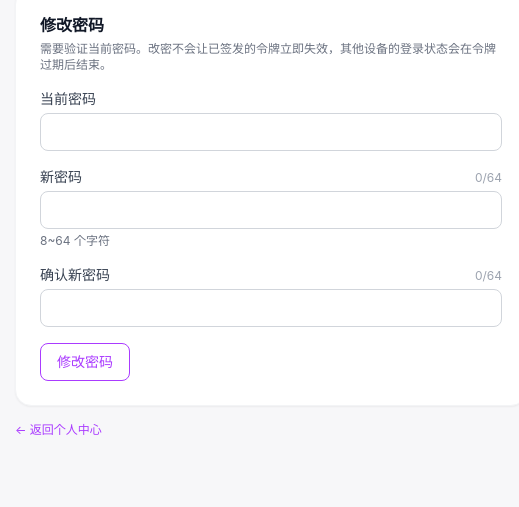
Test: ChangePasswordPage › 修改成功后清空输入框并给出提示（明文不留存在 DOM 里）
Type "old-secret" into the password field labelled "当前密码". click: (271, 132)
box: [40,113,502,151]
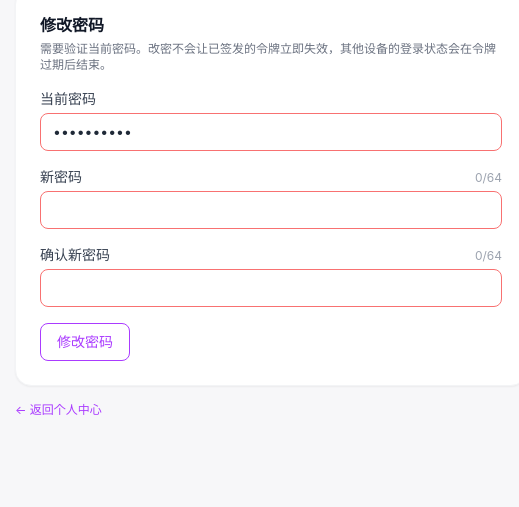
Type "new-secret" into the password field labelled "新密码". click: (271, 210)
box: [40,191,502,229]
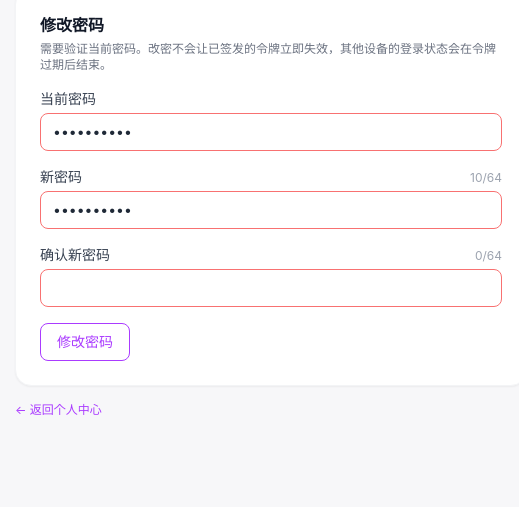
Type "new-secret" into the password field labelled "确认新密码". click: (271, 288)
box: [40,269,502,307]
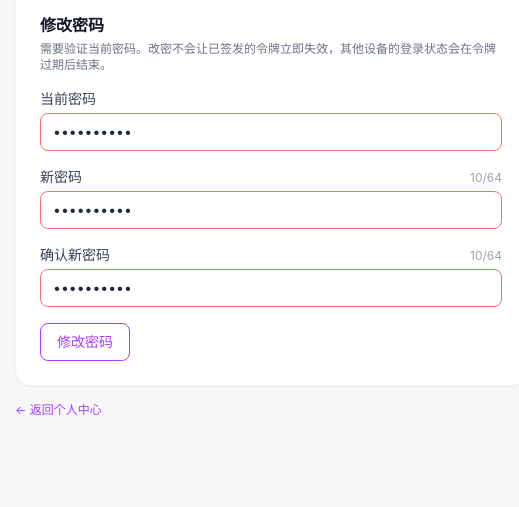
Submit the form "修改密码", box [40,89,502,361]
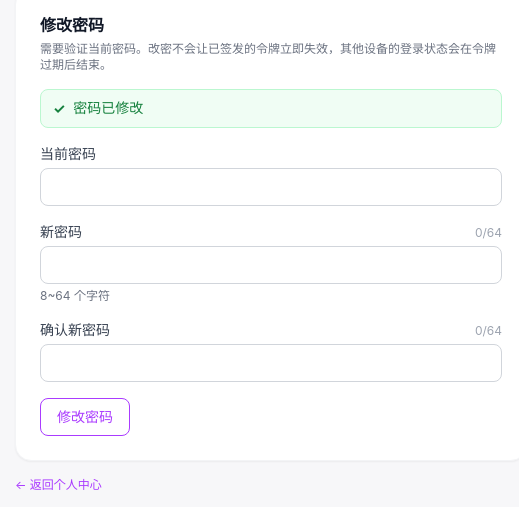
Expected: the text "密码已修改" is shown, [73,99,143,116]
Expected: the password field labelled "当前密码" is empty, [40,168,502,206]
Expected: the password field labelled "新密码" is empty, [40,246,502,284]
